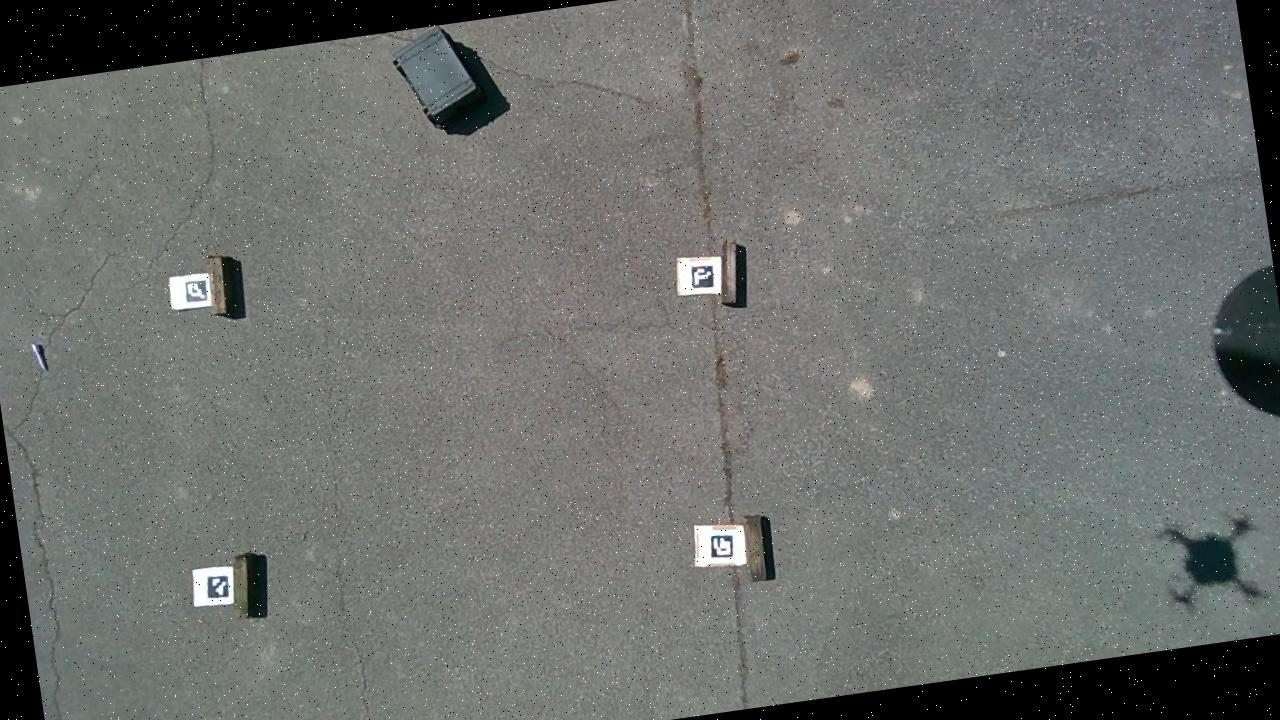probes: (30, 342, 48, 373)
rako: (390, 23, 488, 135)
